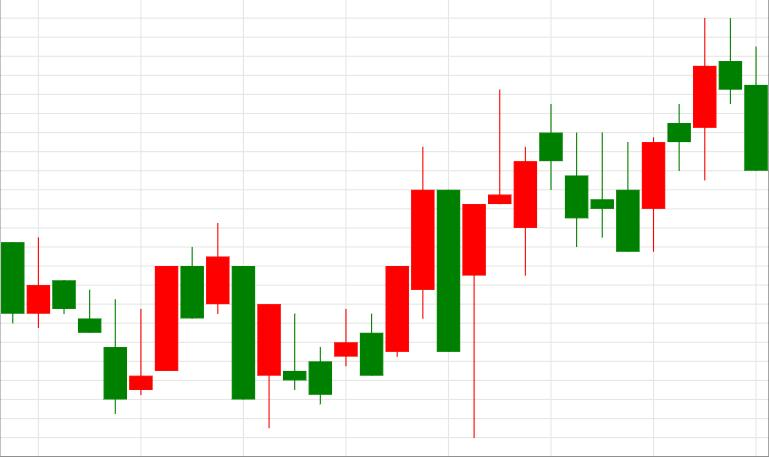evening_star_fall: (437, 91, 588, 437)
shooting_star_fall: (616, 18, 743, 252)
